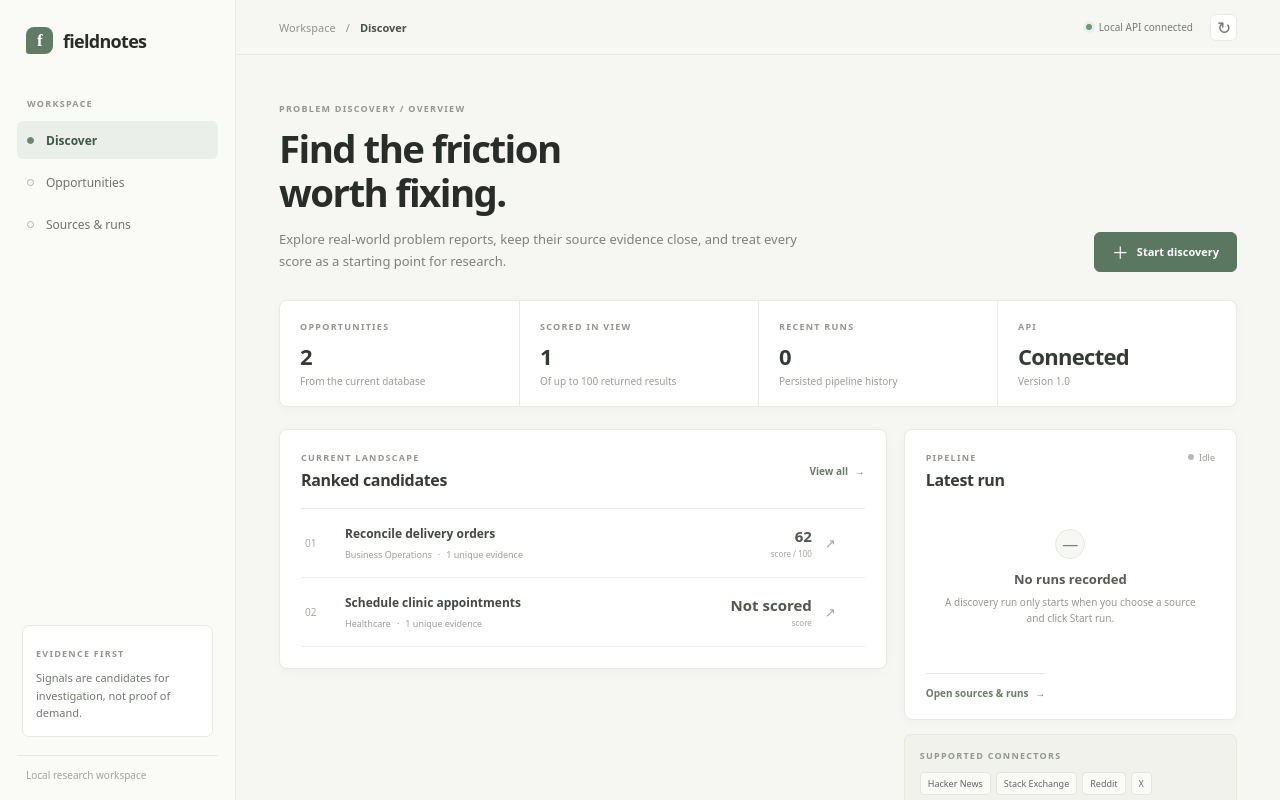
Test: Fieldnotes workspace › filters loaded opportunities and navigates to source-backed detail
This screenshot has width=1280, height=800.
Click the link "Opportunities" at (76, 182), box [27,174,125,190]
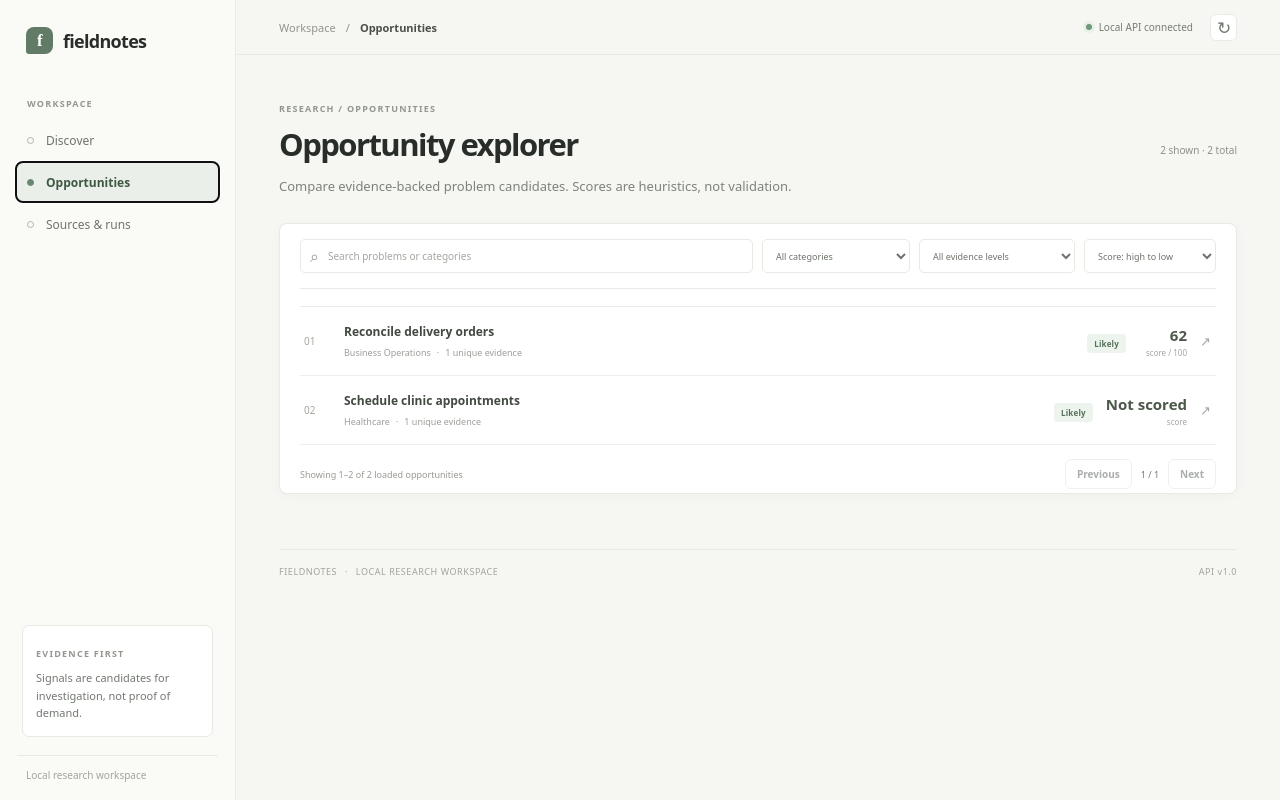
Type "clinic" into the field named "Search title and category" at (534, 256), box [326,248,743,264]
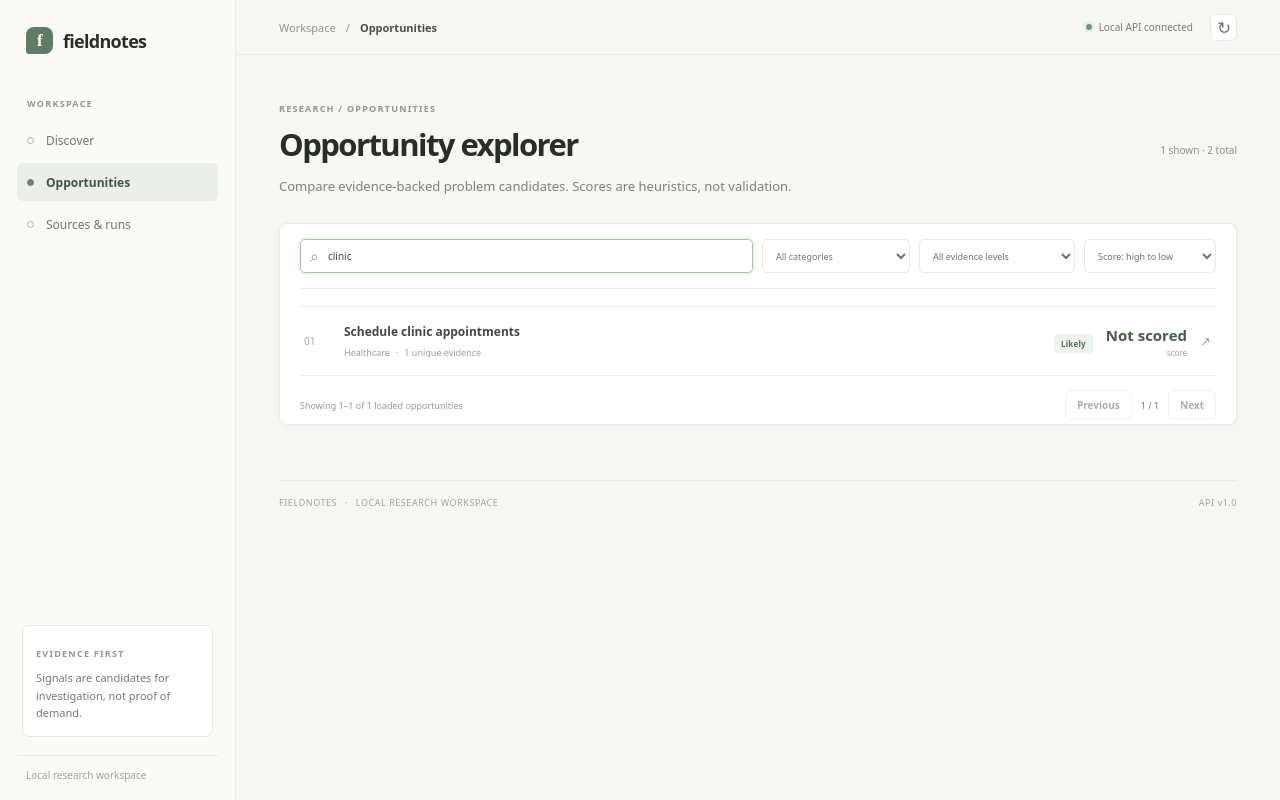
Expected: the text "Schedule clinic appointments" is shown, [344,323,520,340]
Expected: the link "Reconcile delivery orders" is gone
Clear the field named "Search title and category" at (534, 256), box [326,248,743,264]
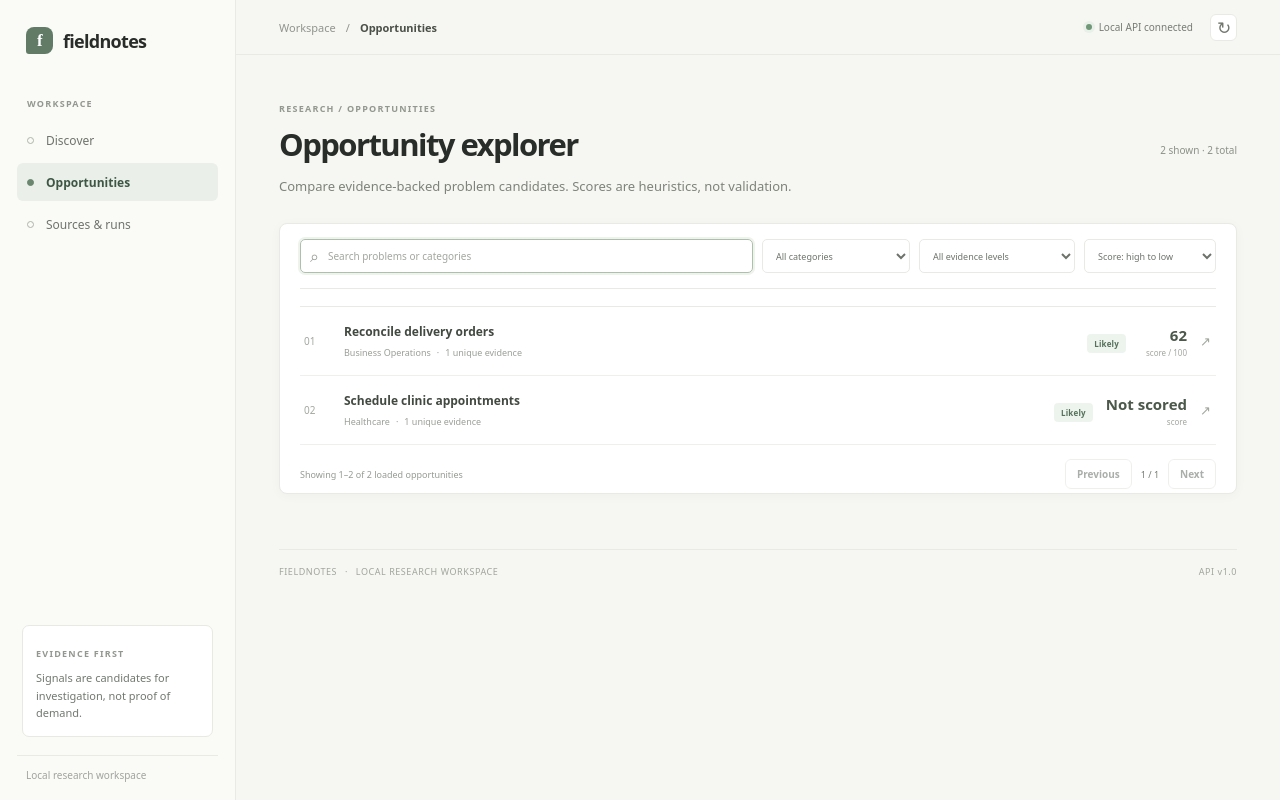
Click the link "Reconcile delivery orders" at (419, 332), box [300,307,1216,376]
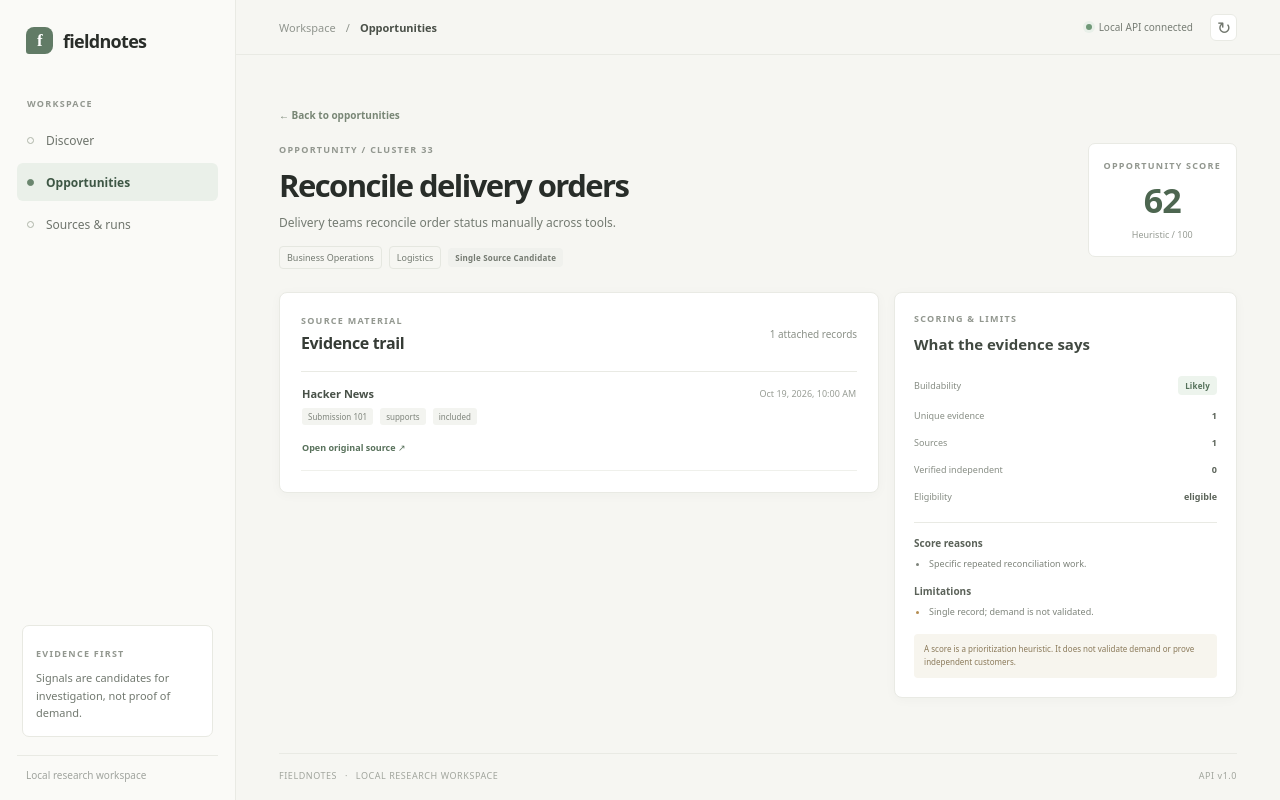
Expected: the text "Delivery teams reconcile order status manually across tools." is shown, [279,213,628,233]
